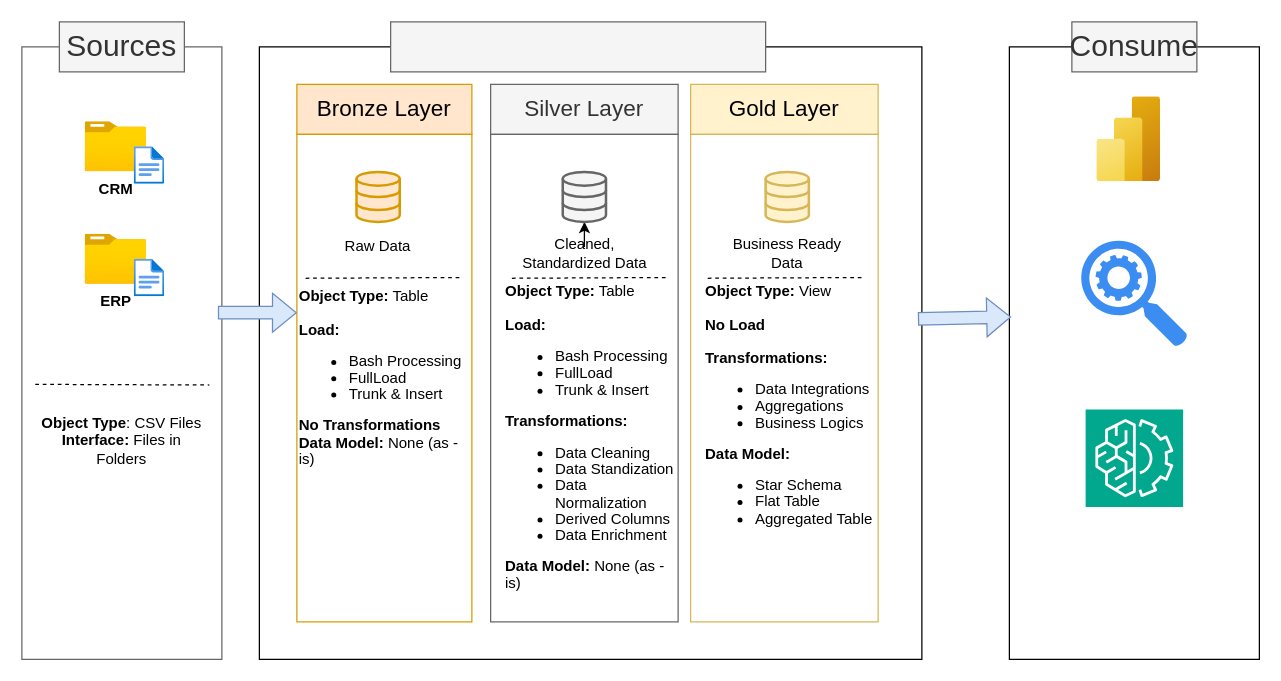
Some shapes in this 1281 by 681 pixel diagram are drawn without their labels. The shapes that lost their labels are listed below. From the top down, each one's centre as x and y in pixels, then its label:
At (x=577, y=46): "Data Warehouse".
At (x=1128, y=138): "BI & Reporting".
At (x=1134, y=293): "Ad-Hoc SQL Queries".
At (x=1133, y=457): "Machine Learning".
